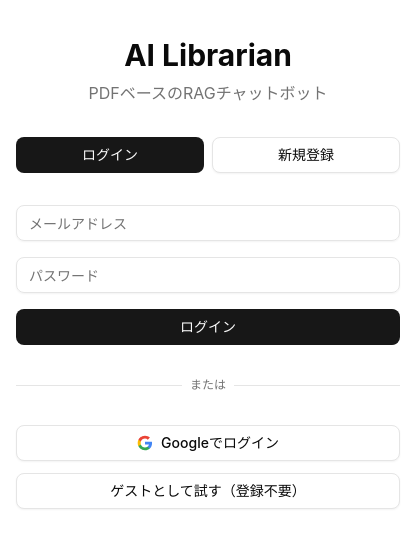
Scenario: LoginPage sign-up flow › 新規登録タブを選ぶと確認用パスワードが表示され、ボタン文言が登録になる
The image size is (417, 552).
Step 1. Click the tab with test id "auth-mode-signup" → (306, 155), box [212, 137, 400, 173]
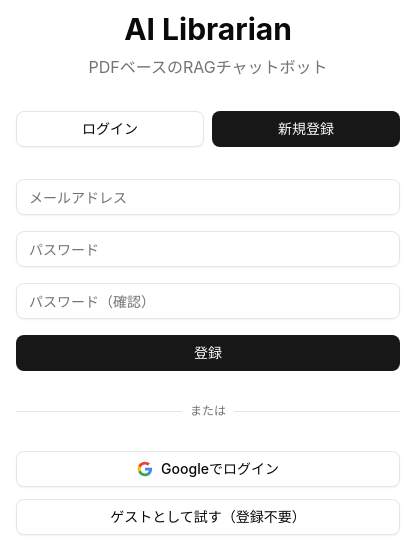
expect the password field with test id "password-confirm" is shown: met, box [16, 283, 400, 319]
expect the button with test id "auth-submit" reads "登録": met, box [16, 335, 400, 371]
